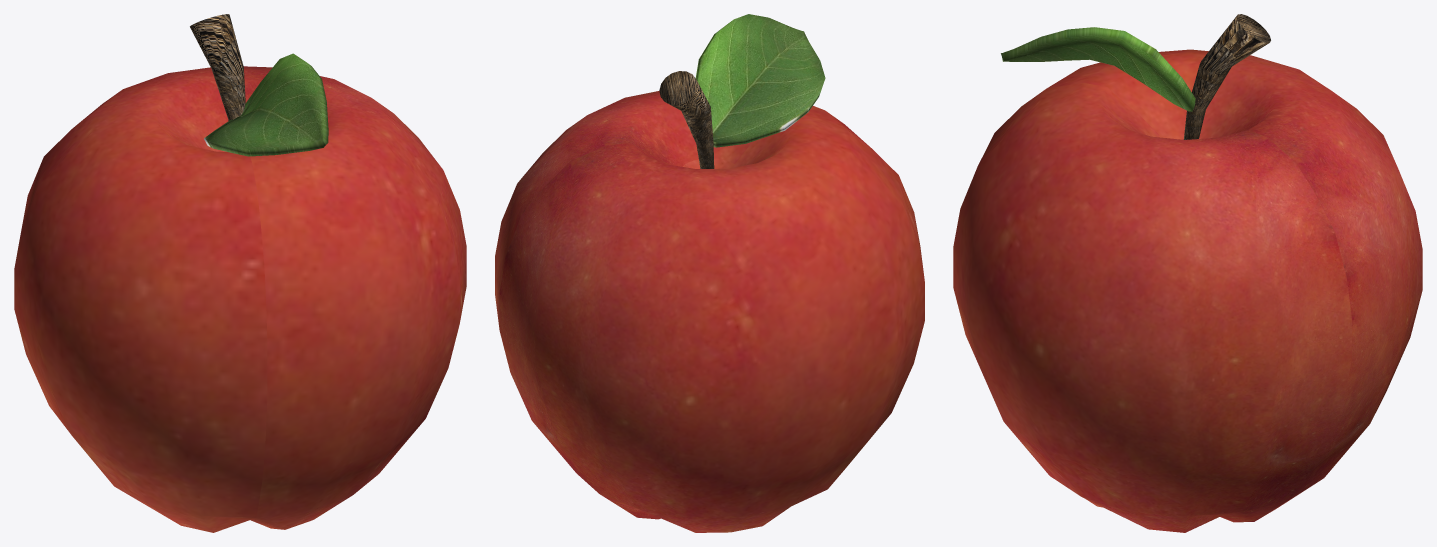
The model's file is apple.fbx.
3 views of the same model, side by side, from view 1: azimuth 30°, elevation 25°; view 2: azimuth 150°, elevation 25°; view 3: azimuth 270°, elevation 25° (orthographic). The views are drawn at different scales.
Visible parts, largest first — view 1: Apple, Leaf, Stem; view 2: Apple, Leaf, Stem; view 3: Apple, Leaf, Stem.
Part boxes in pixels (bbox=[...]): Apple: bbox=[14, 66, 466, 532]; Leaf: bbox=[204, 53, 328, 156]; Stem: bbox=[190, 14, 245, 120]; Apple: bbox=[495, 91, 924, 532]; Leaf: bbox=[695, 14, 825, 147]; Stem: bbox=[659, 71, 714, 168]; Apple: bbox=[953, 49, 1422, 532]; Leaf: bbox=[1001, 27, 1195, 111]; Stem: bbox=[1183, 14, 1270, 139].
Bounding box in the file's own units: 0.5525 × 0.6303 × 0.5525.
